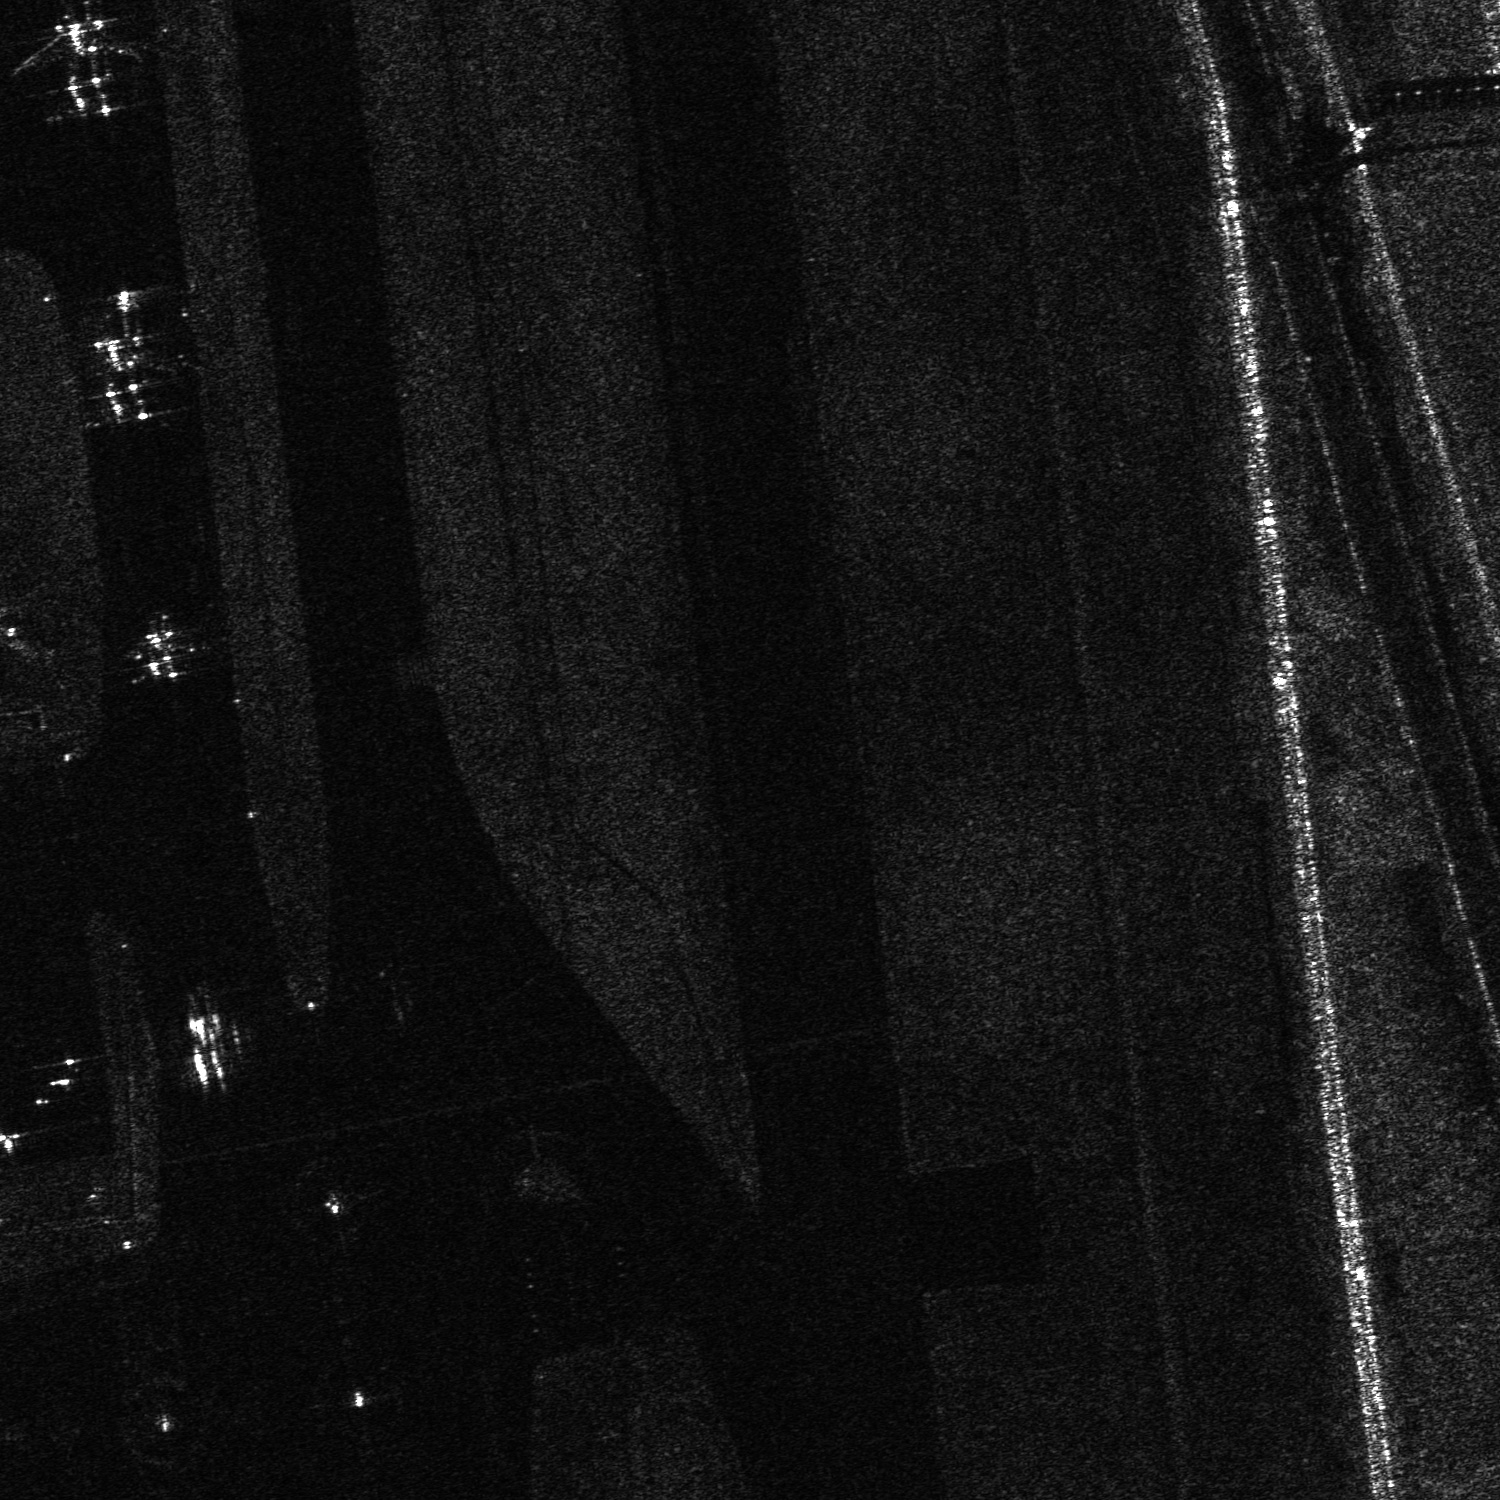A330: (110, 607, 216, 692)
other: (71, 295, 194, 431)
